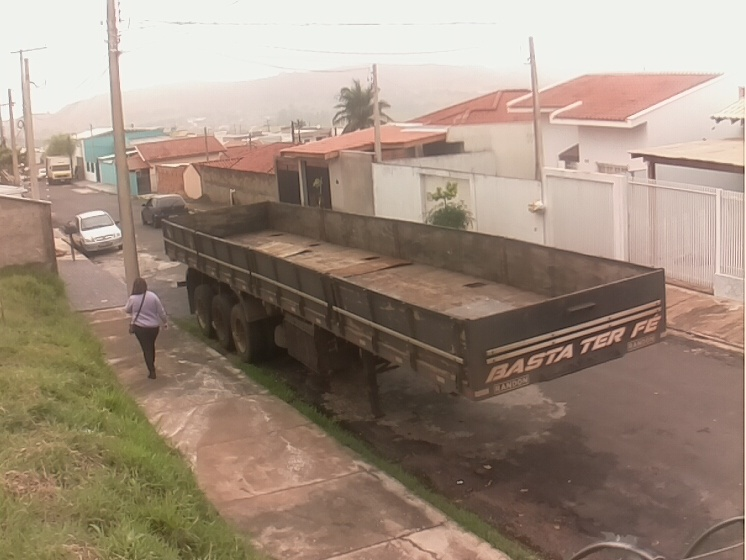person: (123, 277, 169, 379)
